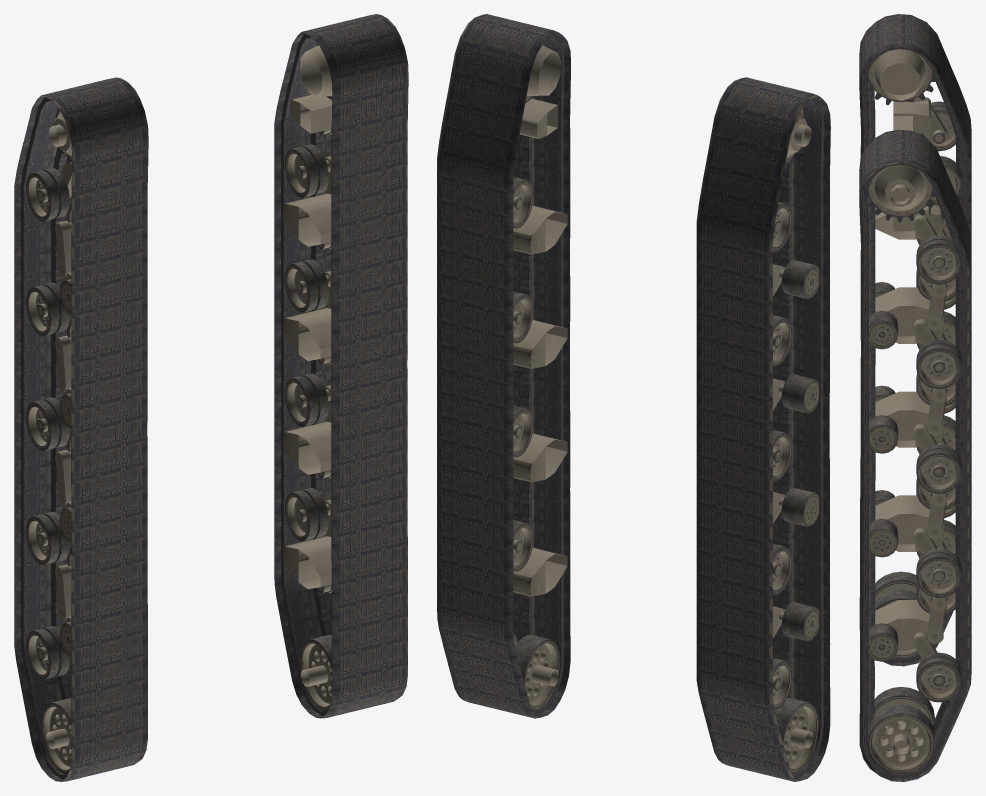
Rendered from Chassis.glb.
The picture shows the model from 3 angles, left to right: view 1: azimuth 30°, elevation 25°; view 2: azimuth 150°, elevation 25°; view 3: azimuth 270°, elevation 25°; orthographic projection. The views are drawn at different scales.
Visible parts, largest first — view 1: set_0_group_0, set_1_group_0, set_5_group_0, set_3_group_0; view 2: set_0_group_0, set_1_group_0, set_5_group_0, set_3_group_0; view 3: set_5_group_0, set_1_group_0, set_3_group_0, set_0_group_0, set_4_group_0.
Part boxes in pixels (x1=…): set_0_group_0: x1=14, y1=77, x2=148, y2=781; set_1_group_0: x1=274, y1=14, x2=408, y2=718; set_5_group_0: x1=283, y1=20, x2=367, y2=710; set_3_group_0: x1=26, y1=84, x2=108, y2=773; set_0_group_0: x1=696, y1=77, x2=830, y2=781; set_1_group_0: x1=437, y1=14, x2=570, y2=718; set_5_group_0: x1=494, y1=20, x2=567, y2=710; set_3_group_0: x1=753, y1=83, x2=819, y2=773; set_5_group_0: x1=867, y1=139, x2=961, y2=773; set_1_group_0: x1=859, y1=129, x2=971, y2=781; set_3_group_0: x1=867, y1=23, x2=961, y2=658; set_0_group_0: x1=859, y1=14, x2=971, y2=666; set_4_group_0: x1=915, y1=639, x2=937, y2=658.
Bounding box in the file's own units: 3.49 × 6.76 × 1.11.
6 materials, 6 textured.
